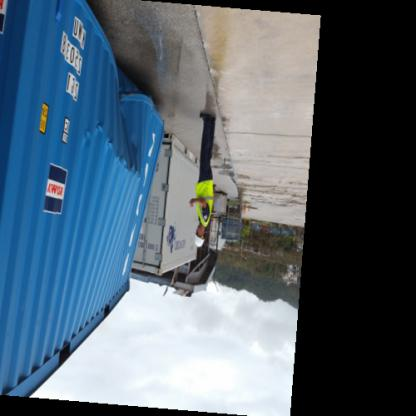Damage: (74, 76, 158, 179)
